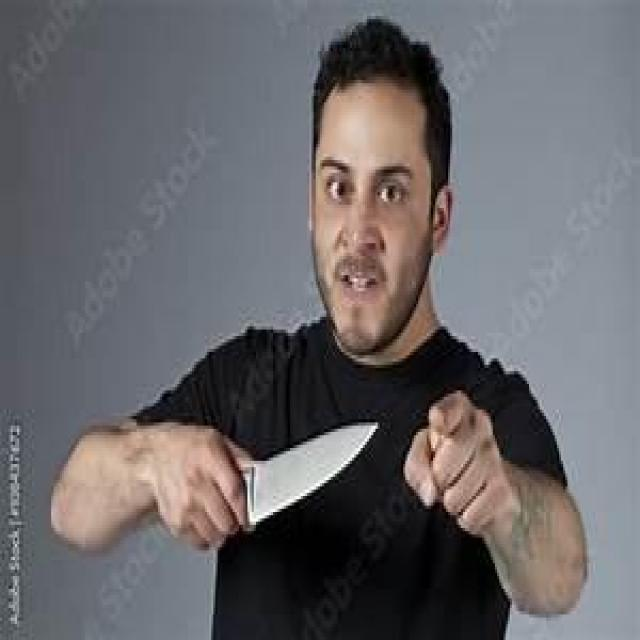Knife: (162, 408, 400, 549)
